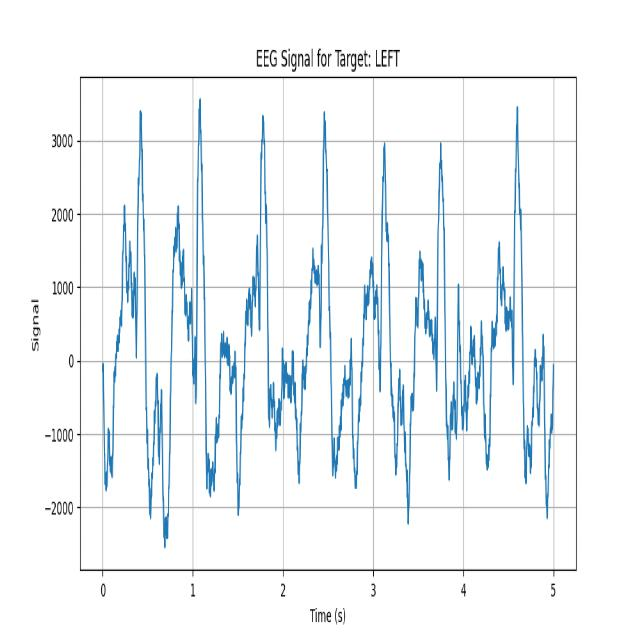LEFT: (463, 83, 536, 561), (160, 91, 228, 562), (399, 83, 465, 560), (286, 91, 347, 562), (101, 91, 161, 562), (229, 89, 286, 561), (347, 88, 399, 560)
